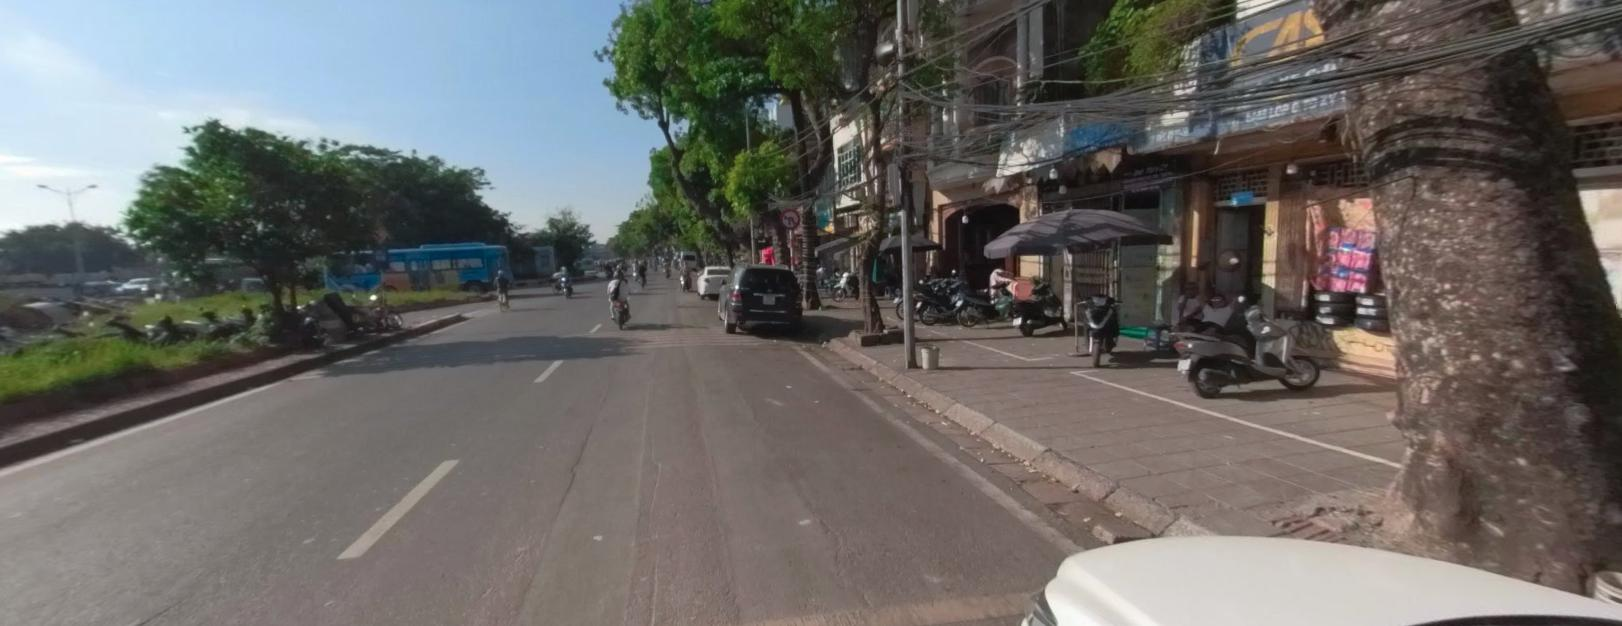Cam re: (780, 207, 800, 227)
